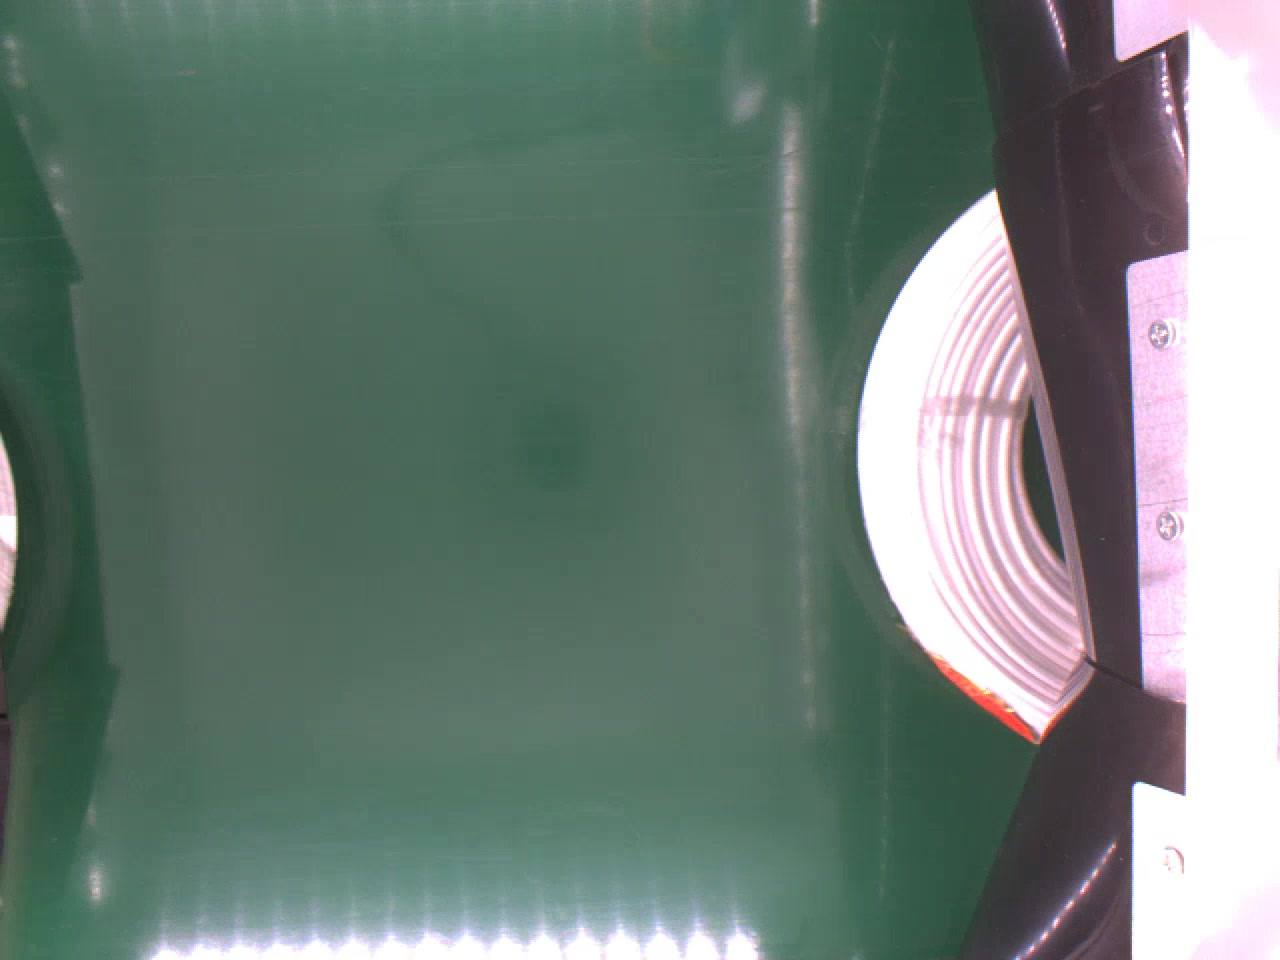white: (856, 179, 1083, 749)
